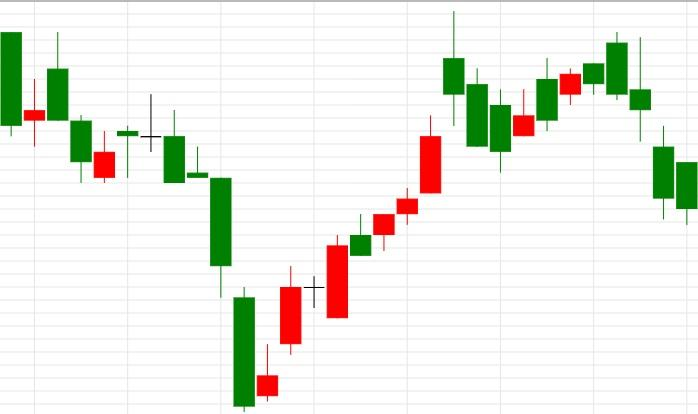inverse_hammer_rise: (117, 93, 278, 412)
